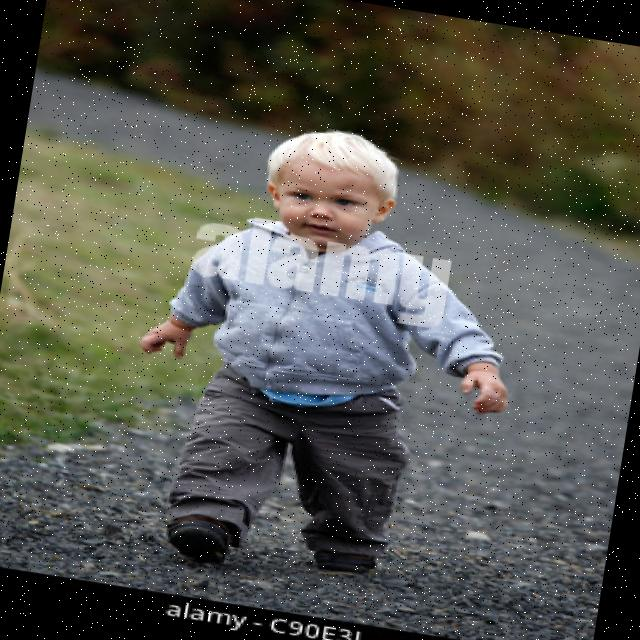Person: (107, 105, 548, 604)
